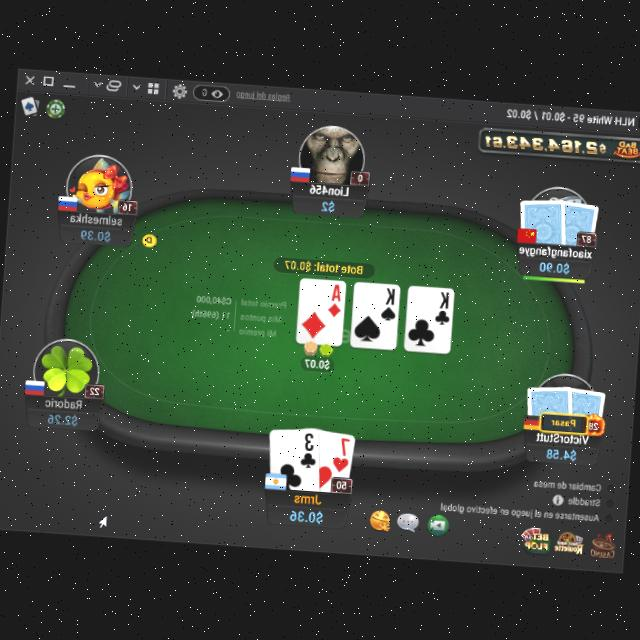3c: (296, 430, 320, 470)
7h: (330, 434, 351, 474)
Ad: (325, 282, 344, 318)
Kc: (432, 286, 452, 327)
Ks: (378, 285, 398, 324)
bet_text: (302, 354, 332, 370)
card_back: (515, 192, 570, 247), (522, 378, 575, 429), (552, 195, 600, 248), (564, 384, 608, 434)
dealer: (140, 228, 159, 246)
pot_text: (283, 256, 363, 274)
stack_text: (287, 504, 324, 523), (538, 258, 572, 274), (544, 444, 577, 460), (46, 410, 79, 426), (79, 225, 112, 241), (318, 196, 336, 212)
